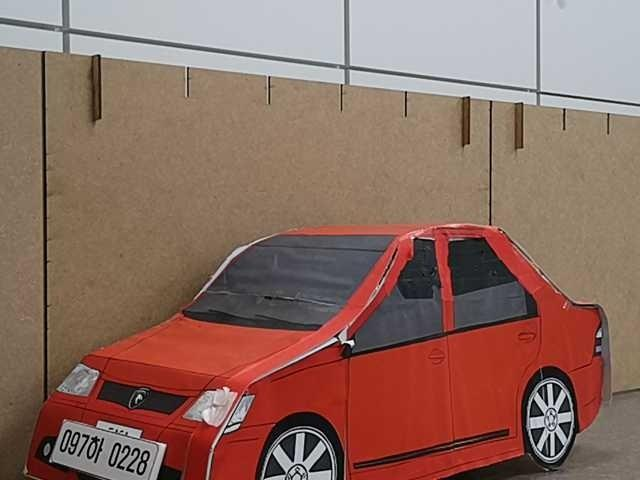car: (24, 225, 610, 480)
id: (51, 419, 167, 480)
